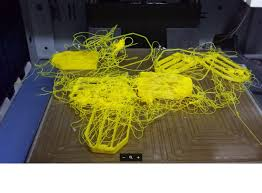Fail: (32, 19, 258, 155)
